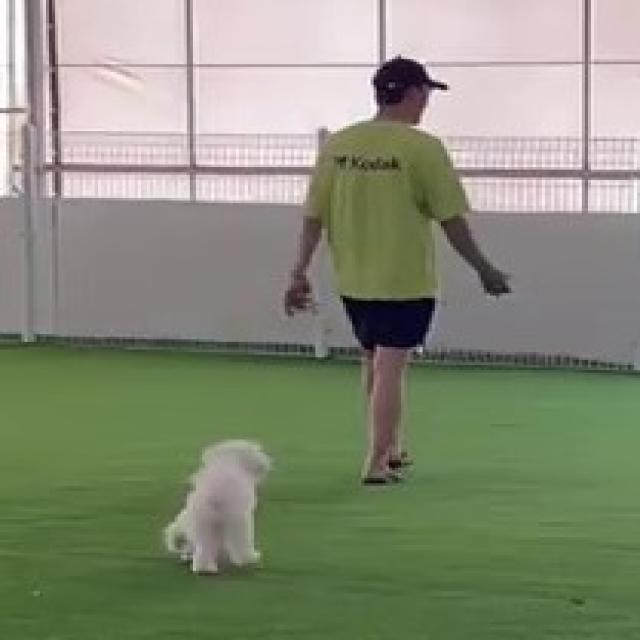Unleashed_Dog: (162, 345, 414, 572)
